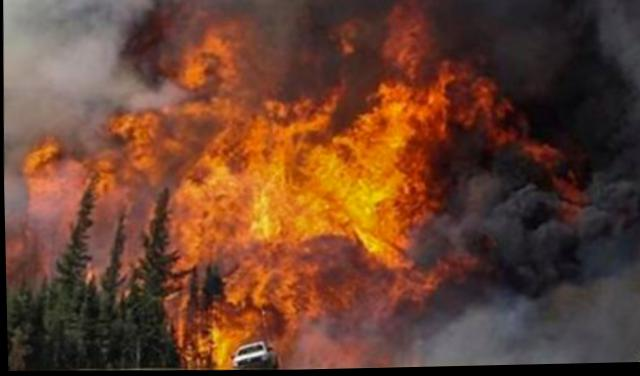fire: (13, 18, 535, 356)
